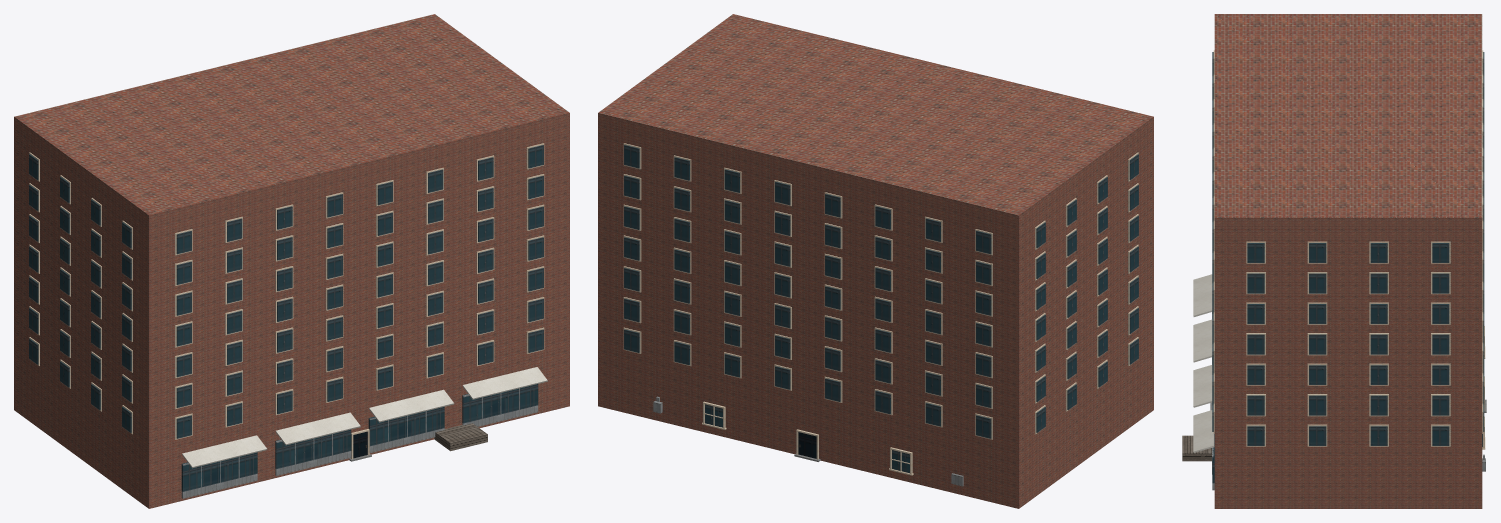
The model's file is mixed-use-block_lod0.gltf.
The picture shows the model from 3 angles, left to right: view 1: azimuth 30°, elevation 25°; view 2: azimuth 150°, elevation 25°; view 3: azimuth 270°, elevation 25°; orthographic projection.
Parts seen in each view (by area): view 1: mixed-use-block_main, mixed-use-block_fen_07-glass-curtain-blue_1, mixed-use-block_fen_04-limestone_2, mixed-use-block_fen_14-steel-panel_0, mixed-use-block__awning_b, mixed-use-block__awning_a, mixed-use-block__awning_c, mixed-use-block__awning_d, mixed-use-block__cafe_tables; view 2: mixed-use-block_main, mixed-use-block_fen_07-glass-curtain-blue_1, mixed-use-block_fen_04-limestone_2; view 3: mixed-use-block_main, mixed-use-block_fen_07-glass-curtain-blue_1, mixed-use-block_fen_04-limestone_2, mixed-use-block__awning_d, mixed-use-block__awning_b, mixed-use-block__awning_a, mixed-use-block__awning_c, mixed-use-block__cafe_tables.
Part boxes in pixels (left/top/right/bottom): mixed-use-block_main: left=14, top=14, right=569, bottom=508; mixed-use-block_fen_07-glass-curtain-blue_1: left=29, top=145, right=543, bottom=491; mixed-use-block_fen_04-limestone_2: left=29, top=143, right=544, bottom=459; mixed-use-block_fen_14-steel-panel_0: left=181, top=388, right=538, bottom=498; mixed-use-block__awning_b: left=275, top=412, right=360, bottom=445; mixed-use-block__awning_a: left=182, top=435, right=266, bottom=468; mixed-use-block__awning_c: left=369, top=389, right=454, bottom=422; mixed-use-block__awning_d: left=462, top=367, right=547, bottom=399; mixed-use-block__cafe_tables: left=434, top=423, right=487, bottom=451; mixed-use-block_main: left=598, top=14, right=1153, bottom=508; mixed-use-block_fen_07-glass-curtain-blue_1: left=624, top=145, right=1138, bottom=473; mixed-use-block_fen_04-limestone_2: left=623, top=143, right=1138, bottom=475; mixed-use-block_main: left=1214, top=14, right=1482, bottom=508; mixed-use-block_fen_07-glass-curtain-blue_1: left=1212, top=52, right=1484, bottom=483; mixed-use-block_fen_04-limestone_2: left=1213, top=50, right=1485, bottom=449; mixed-use-block__awning_d: left=1193, top=410, right=1214, bottom=452; mixed-use-block__awning_b: left=1193, top=319, right=1212, bottom=362; mixed-use-block__awning_a: left=1193, top=274, right=1212, bottom=316; mixed-use-block__awning_c: left=1193, top=365, right=1212, bottom=407; mixed-use-block__cafe_tables: left=1182, top=435, right=1211, bottom=461.
Size of the model in its own units: 45.4 by 30.02 by 28.4.
